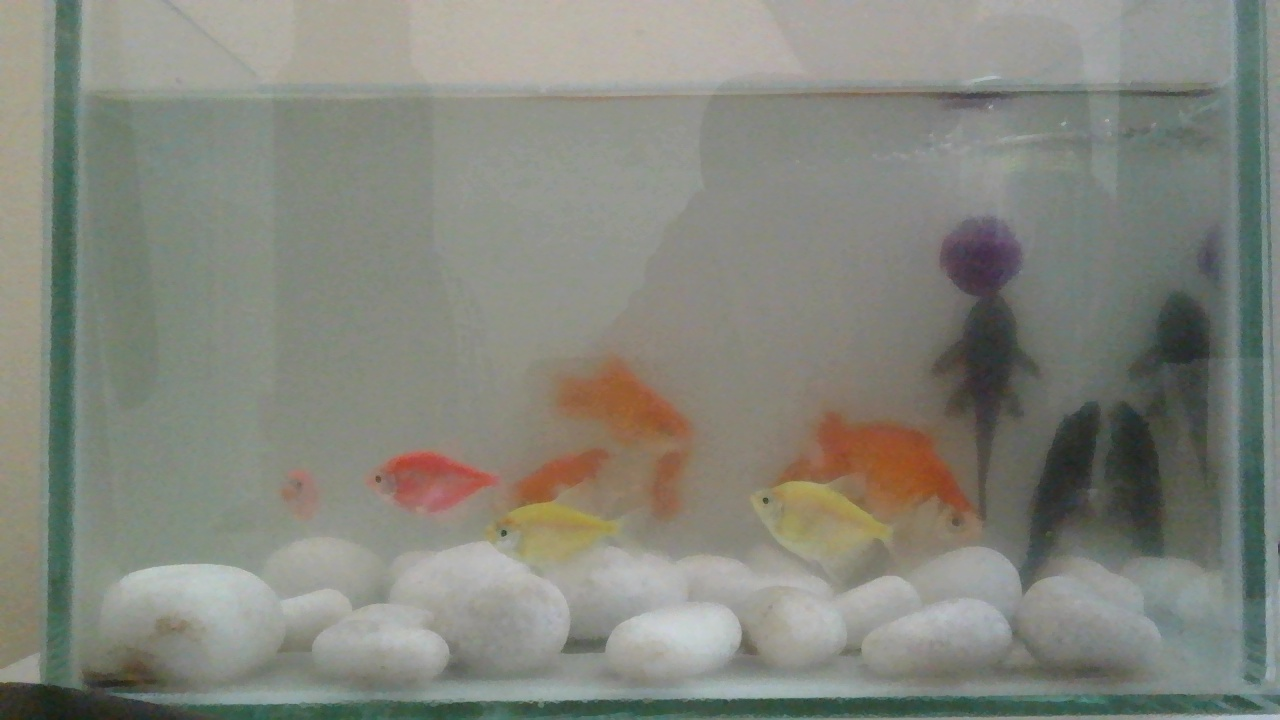fish: (497, 348, 695, 536), (772, 412, 979, 542), (750, 474, 901, 596), (367, 446, 502, 529)
